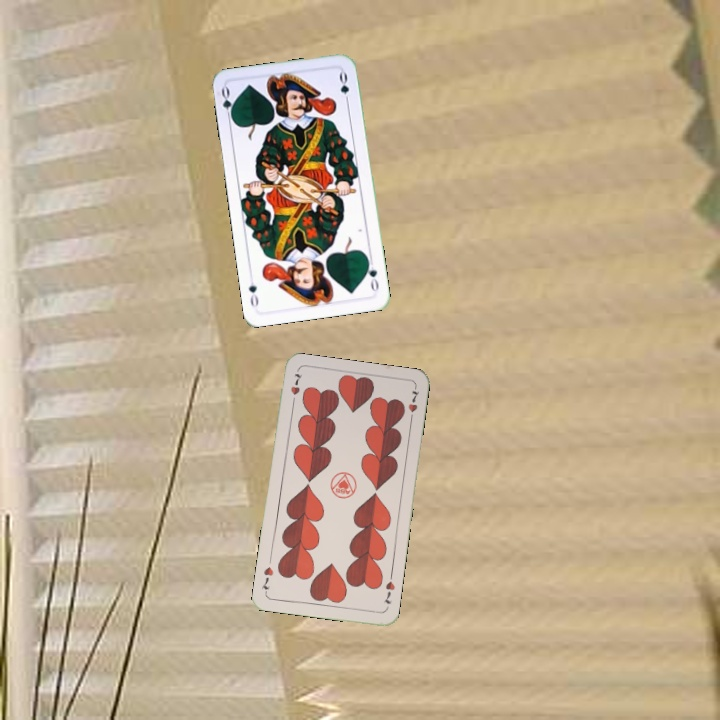GO: (217, 83, 237, 124), (362, 254, 381, 294)
H7: (286, 368, 304, 408), (380, 577, 397, 606)
